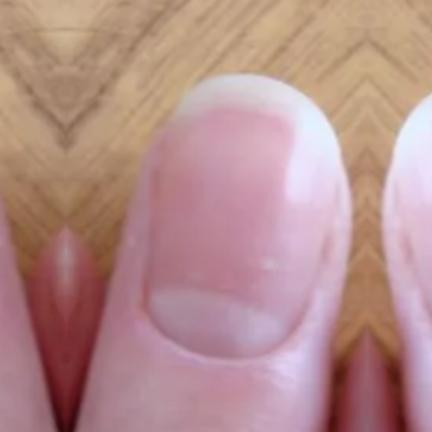Nail: (142, 103, 323, 360), (410, 129, 432, 319)
